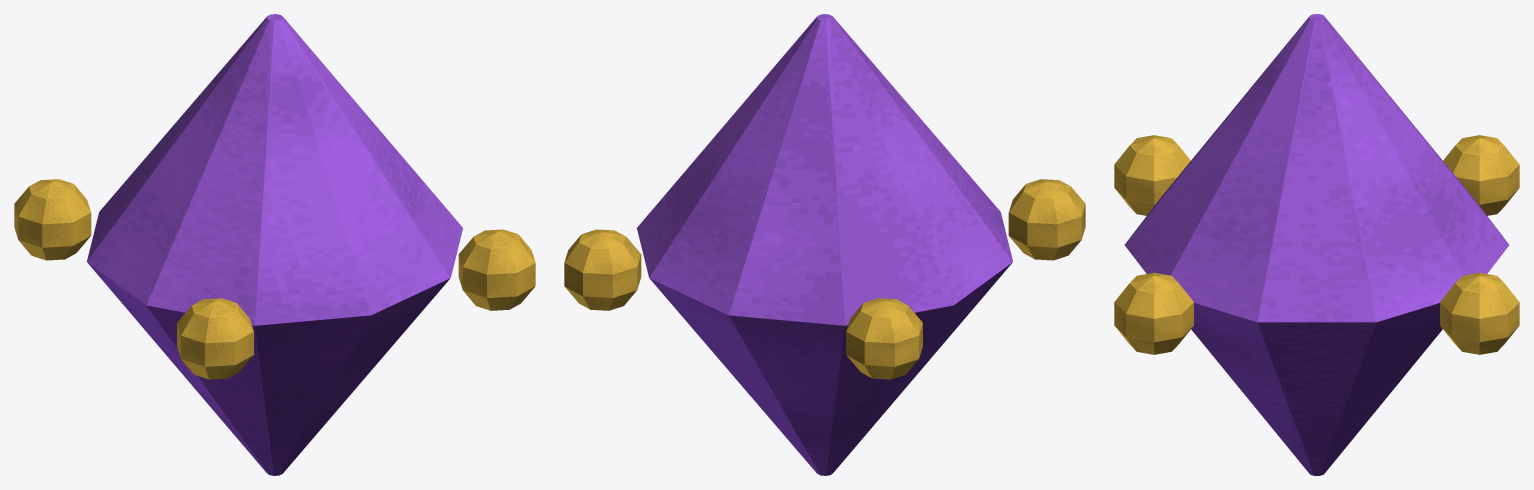
File: pickup_quad.glb
3 views of the same model, side by side, from view 1: azimuth 30°, elevation 25°; view 2: azimuth 150°, elevation 25°; view 3: azimuth 270°, elevation 25° (orthographic).
Visible parts, largest first — view 1: pickup_quad; view 2: pickup_quad; view 3: pickup_quad.
Boxes of the visible parts, x1=… form: pickup_quad: x1=14, y1=14, x2=535, y2=475; pickup_quad: x1=564, y1=14, x2=1085, y2=475; pickup_quad: x1=1114, y1=14, x2=1519, y2=475.
Bounding box in the file's own units: 0.968 × 1.2 × 0.968.
Materials: 1 (1 with a texture image).
